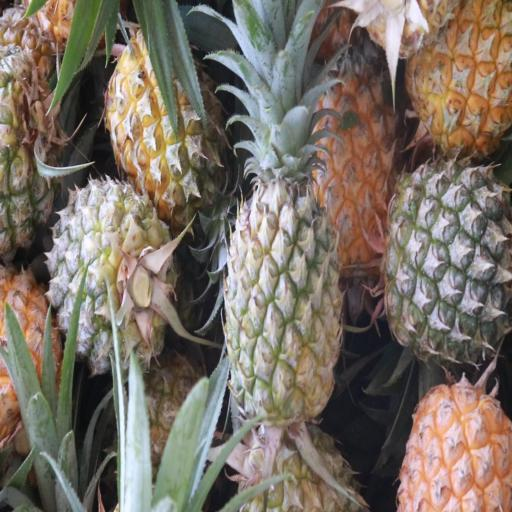------------------------------: (47, 182, 170, 366), (103, 29, 224, 216)
Pineapple - v8 v1: (315, 48, 400, 264), (408, 0, 512, 151), (1, 253, 65, 444)
